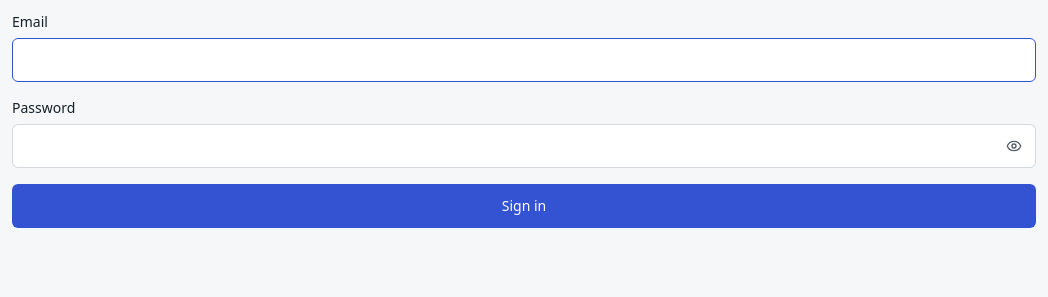
it: LoginForm › shows the translated problem for wrong credentials
This screenshot has width=1048, height=297.
Type "a@b.co" into the field labelled "Email" at point(524, 60), box [12,38,1036,82]
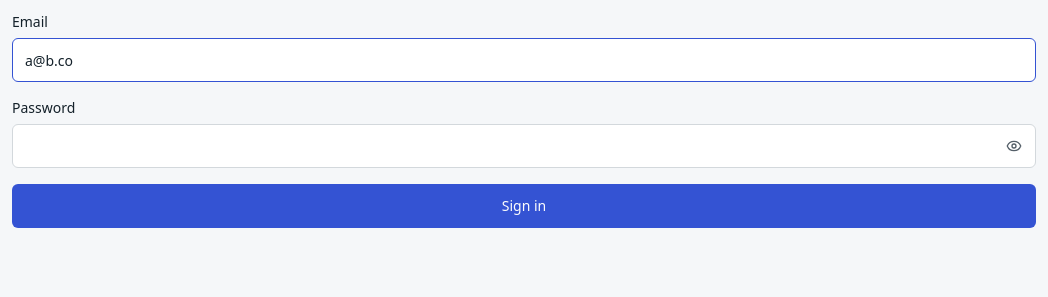
Type "wrong password!" into the password field labelled "Password" at point(524, 146), box [12,124,1036,168]
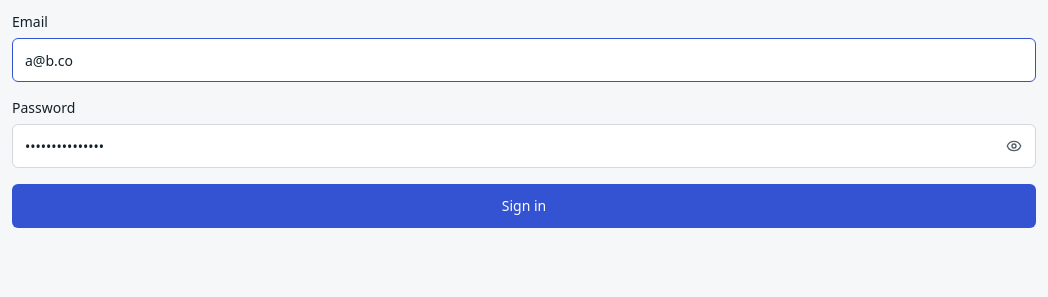
Click the button "Sign in" at point(524, 206), box [12,184,1036,228]
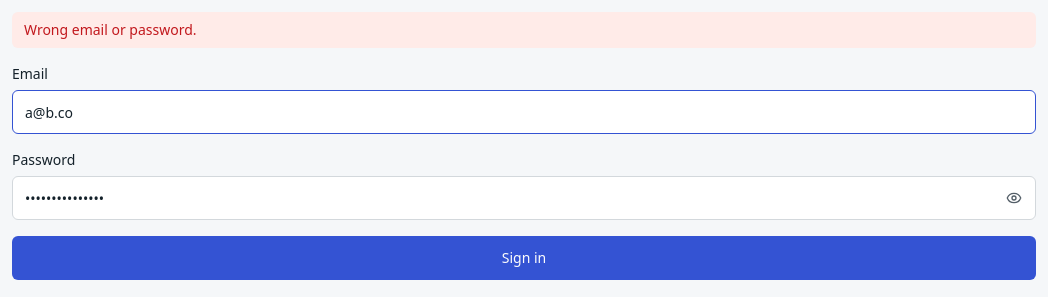
Check: the message reads "Wrong email or password.", box [24,20,197,39]
